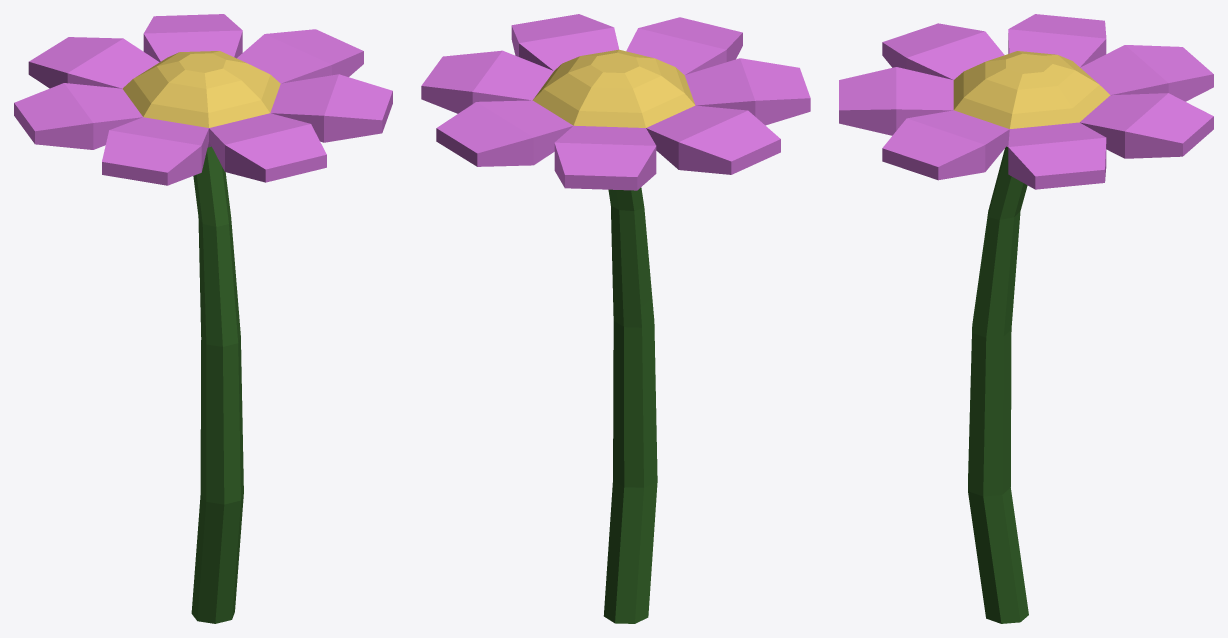
Rendered from Flower_5.fbx.
3 views of the same model, side by side, from view 1: azimuth 30°, elevation 25°; view 2: azimuth 150°, elevation 25°; view 3: azimuth 270°, elevation 25° (orthographic). The views are drawn at different scales.
Visible parts, largest first — view 1: Flower.002; view 2: Flower.002; view 3: Flower.002.
Boxes of the visible parts, x1,y1,x2,y2 form: Flower.002: [14, 14, 392, 623]; Flower.002: [421, 14, 810, 623]; Flower.002: [839, 14, 1213, 623].
Size of the model in its own units: 71.85 by 114 by 70.05.
